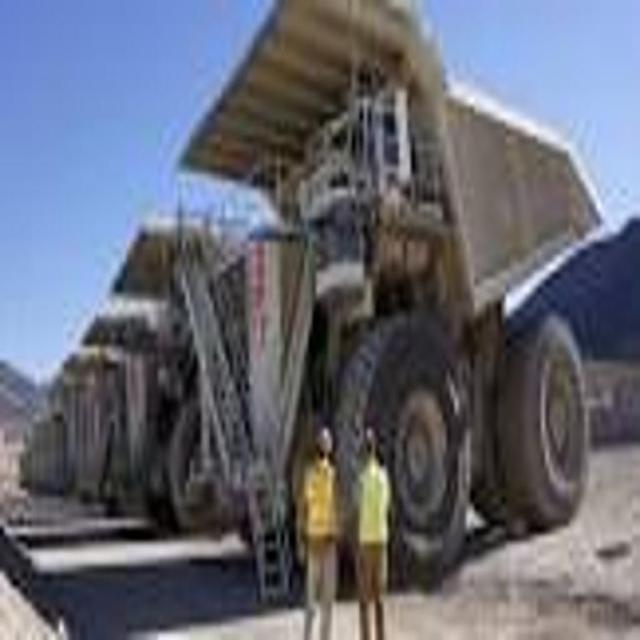dump_truck: (178, 0, 594, 559)
